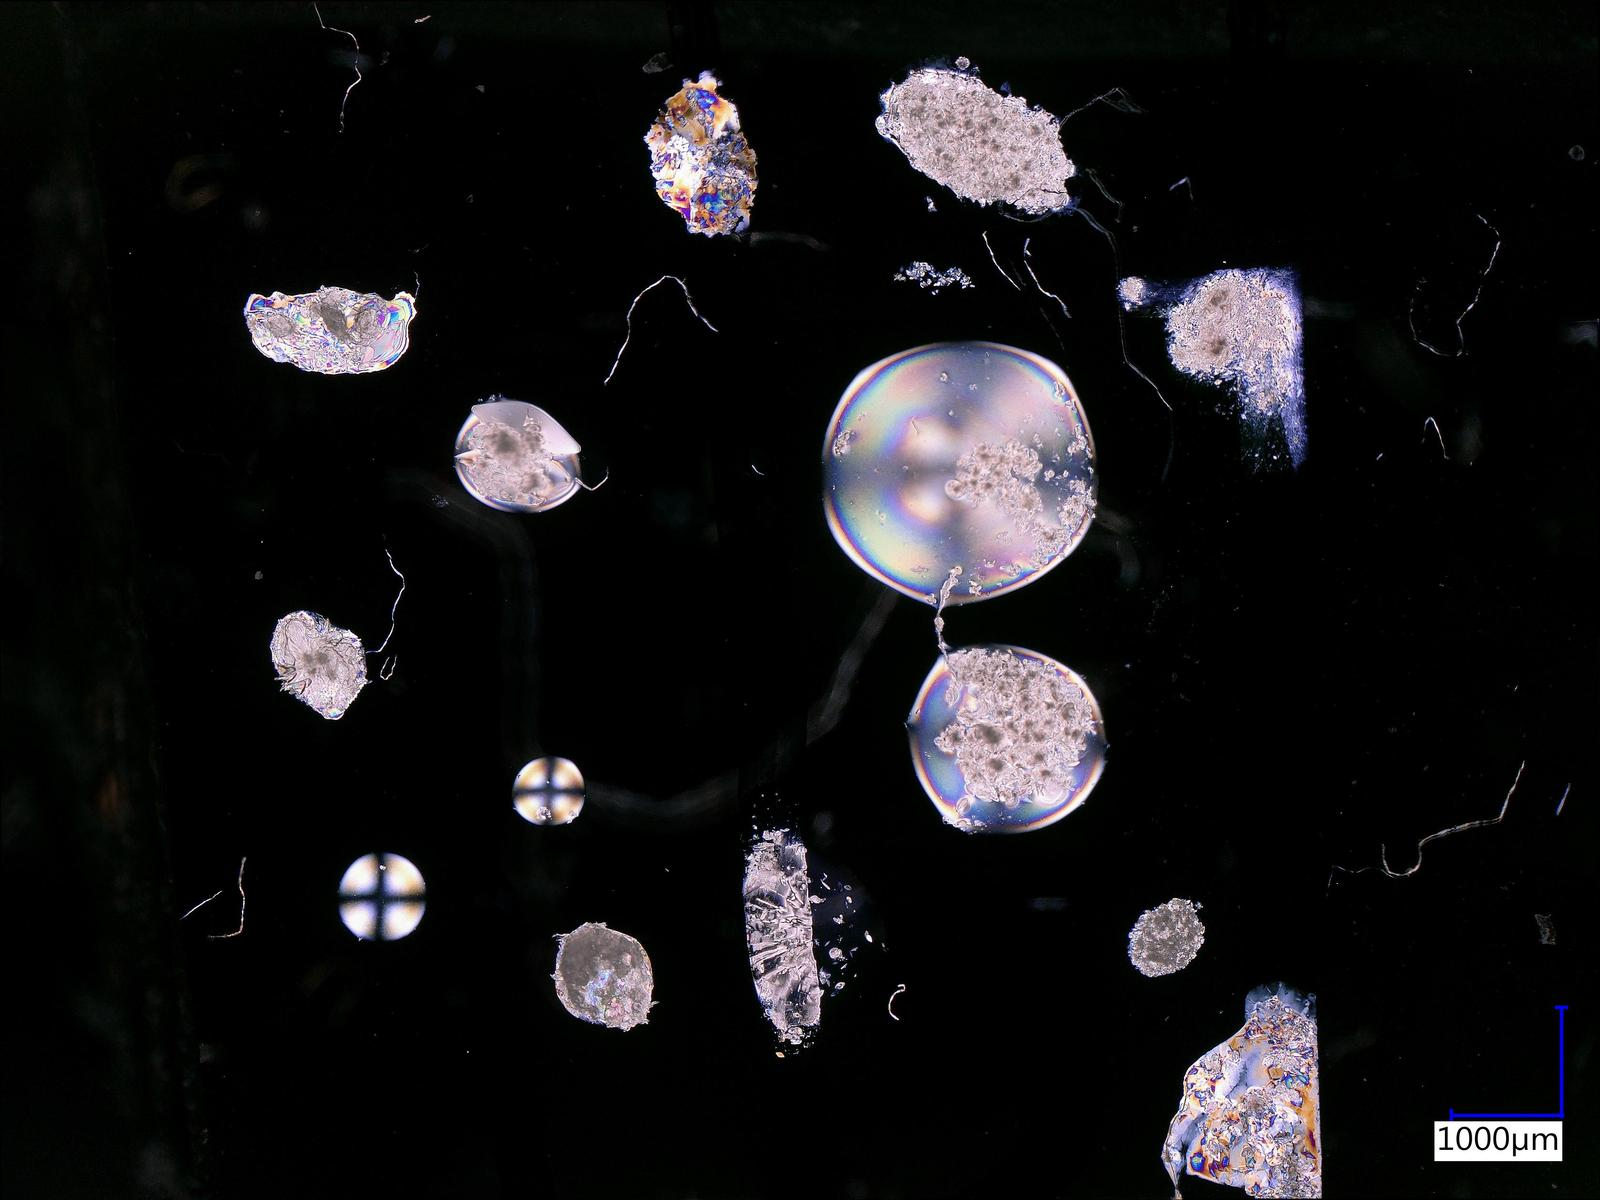sediment: (881, 69, 1070, 209), (950, 650, 1073, 795), (242, 290, 380, 374), (552, 923, 650, 1029), (270, 613, 362, 713), (1164, 272, 1237, 372), (947, 442, 1041, 519), (1130, 897, 1204, 978), (471, 421, 546, 500)
